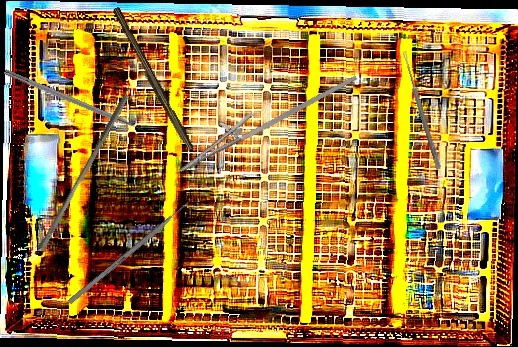Hook Surgical: (2, 69, 154, 138)
Needle Holder: (170, 43, 358, 193)
Pusher: (37, 89, 130, 255), (67, 193, 200, 305)
Scalpel Handle: (108, 6, 197, 154)
Surgical Spoon: (400, 50, 443, 170)
